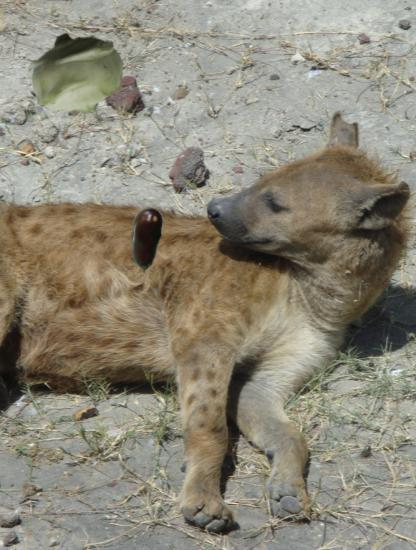Eggplant: (112, 206, 181, 275)
Kohlrabi: (28, 25, 125, 122)
